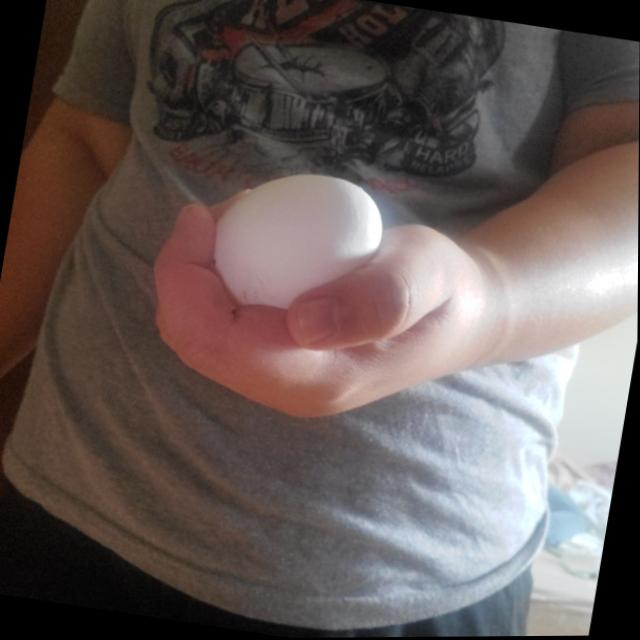egg: (204, 159, 393, 328)
